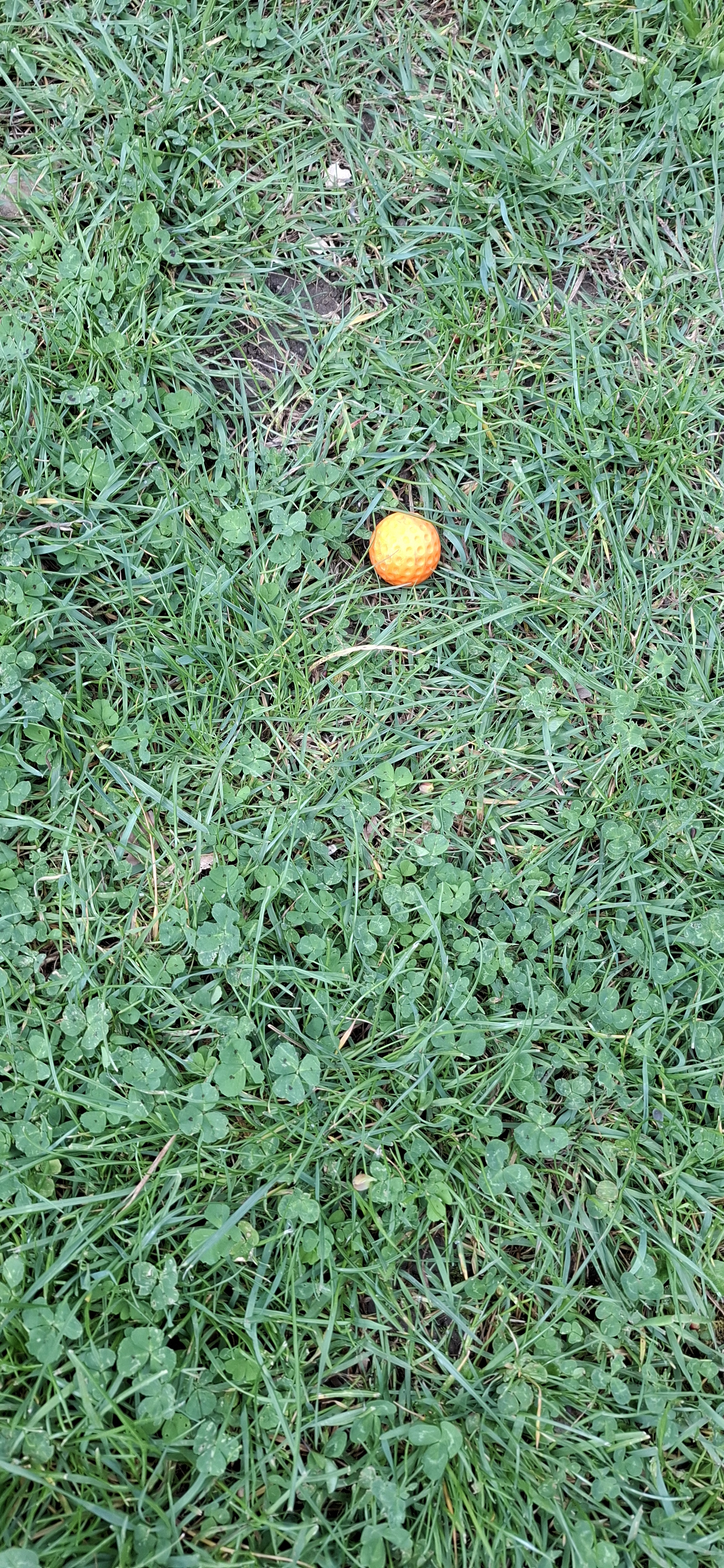ball: (237, 613, 271, 769)
